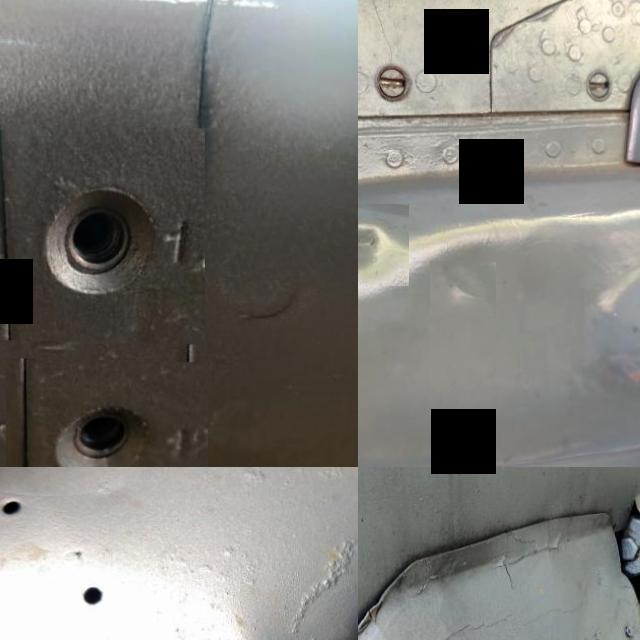Dent: (0, 533, 358, 640), (358, 201, 409, 285), (429, 260, 496, 317)
Missing_Fastener: (0, 122, 205, 342), (5, 357, 207, 467)
